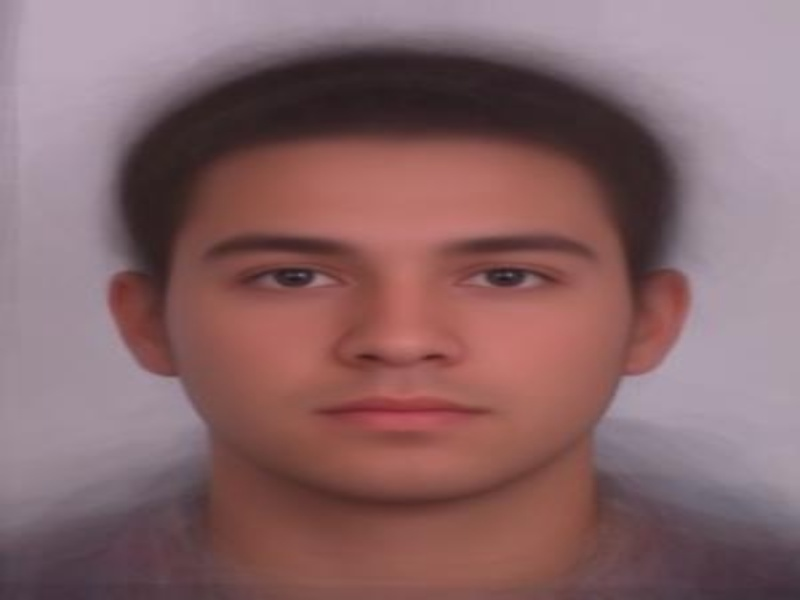face: (193, 166, 604, 464)
